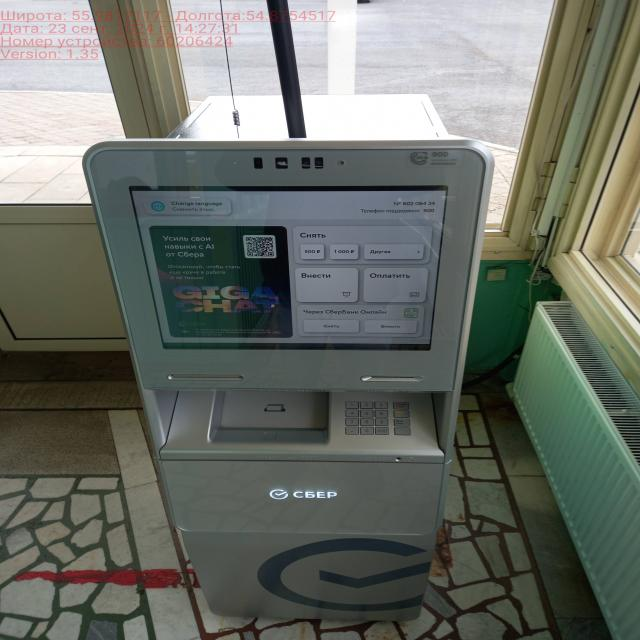bank: (81, 95, 488, 620)
